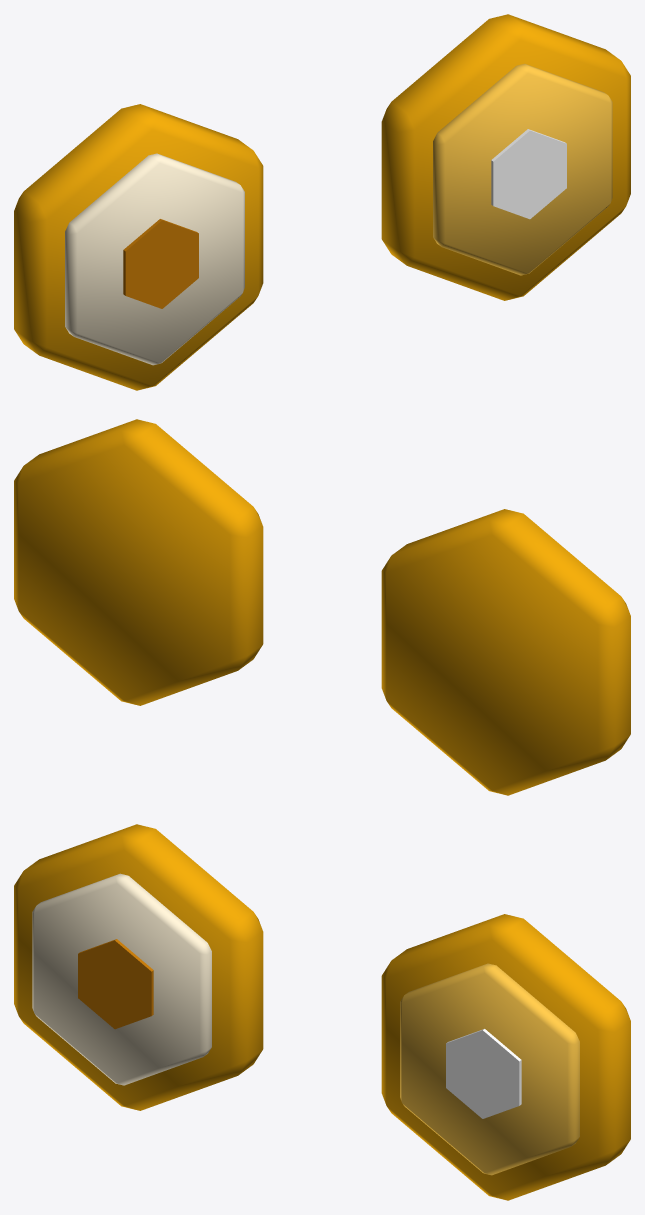
File: hexagon_tile.fbx
The picture shows the model from 3 angles, top to bottom: view 1: azimuth 30°, elevation 25°; view 2: azimuth 150°, elevation 25°; view 3: azimuth 330°, elevation 25°; orthographic projection.
Visible parts, largest first — view 1: Face, Face_Lit, HexTile_Lit, HexTile; view 2: HexTile, HexTile_Lit; view 3: Face_Lit, Face, HexTile, HexTile_Lit.
Part boxes in pixels (<box>): Face: <box>65,153,244,365</box>; Face_Lit: <box>433,63,612,275</box>; HexTile_Lit: <box>381,14,630,300</box>; HexTile: <box>14,104,263,390</box>; HexTile: <box>381,509,630,795</box>; HexTile_Lit: <box>14,419,263,705</box>; Face_Lit: <box>400,963,579,1175</box>; Face: <box>32,873,211,1085</box>; HexTile: <box>14,824,263,1110</box>; HexTile_Lit: <box>381,914,630,1200</box>.
Size of the model in its own units: 0.0981 by 0.0422 by 0.0107.
2 materials, 2 textured.
